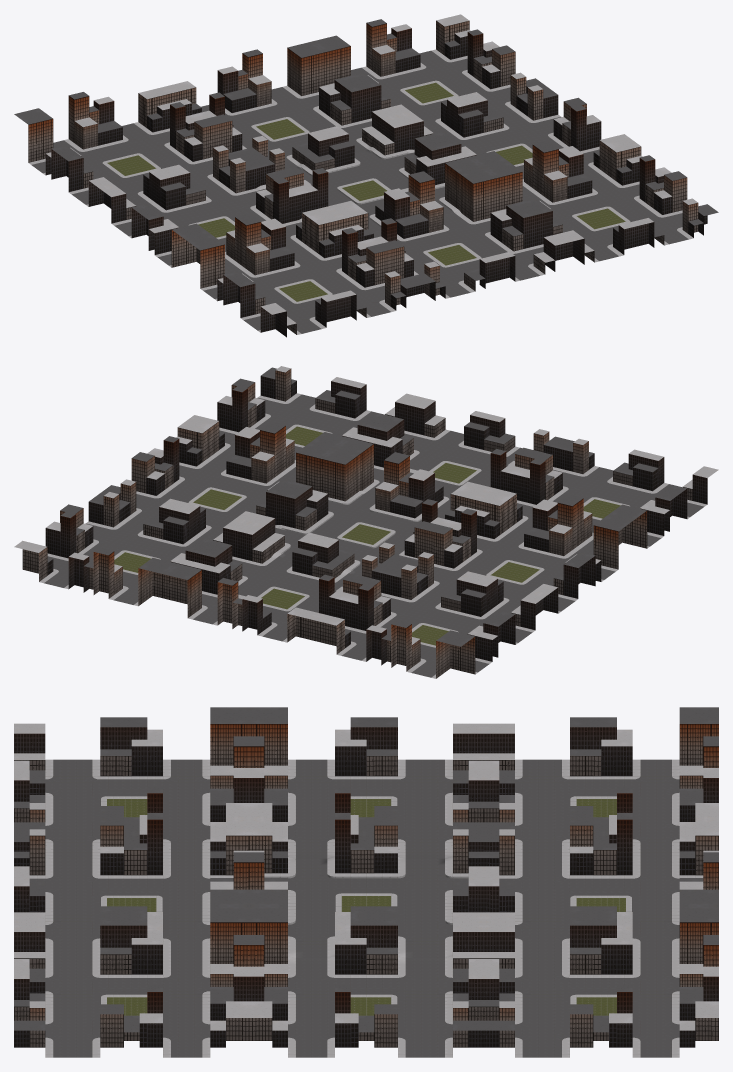
Rendered from correctCityLarge.fbx.
3 views of the same model, one above another, from view 1: azimuth 30°, elevation 25°; view 2: azimuth 150°, elevation 25°; view 3: azimuth 270°, elevation 25° (orthographic). The views are drawn at different scales.
Visible parts, largest first — view 1: level; view 2: level; view 3: level.
Boxes of the visible parts, left/top/right/bottom form: level: left=14, top=14, right=718, bottom=337; level: left=14, top=366, right=718, bottom=678; level: left=14, top=707, right=718, bottom=1057.
Size of the model in its own units: 114 by 10.65 by 114.
